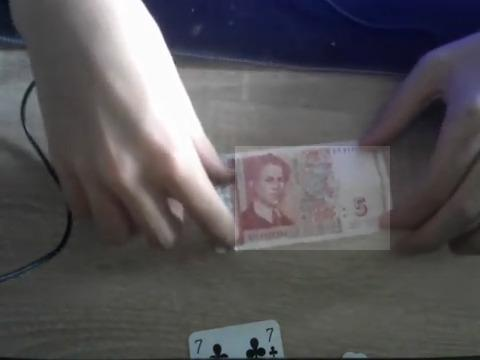5leva: (235, 146, 390, 250)
